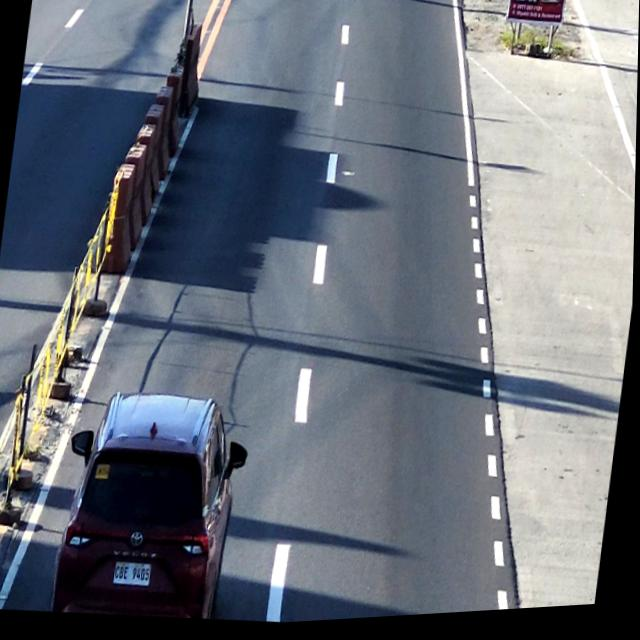Car: (53, 383, 246, 629)
License-Plate: (113, 557, 154, 592)
